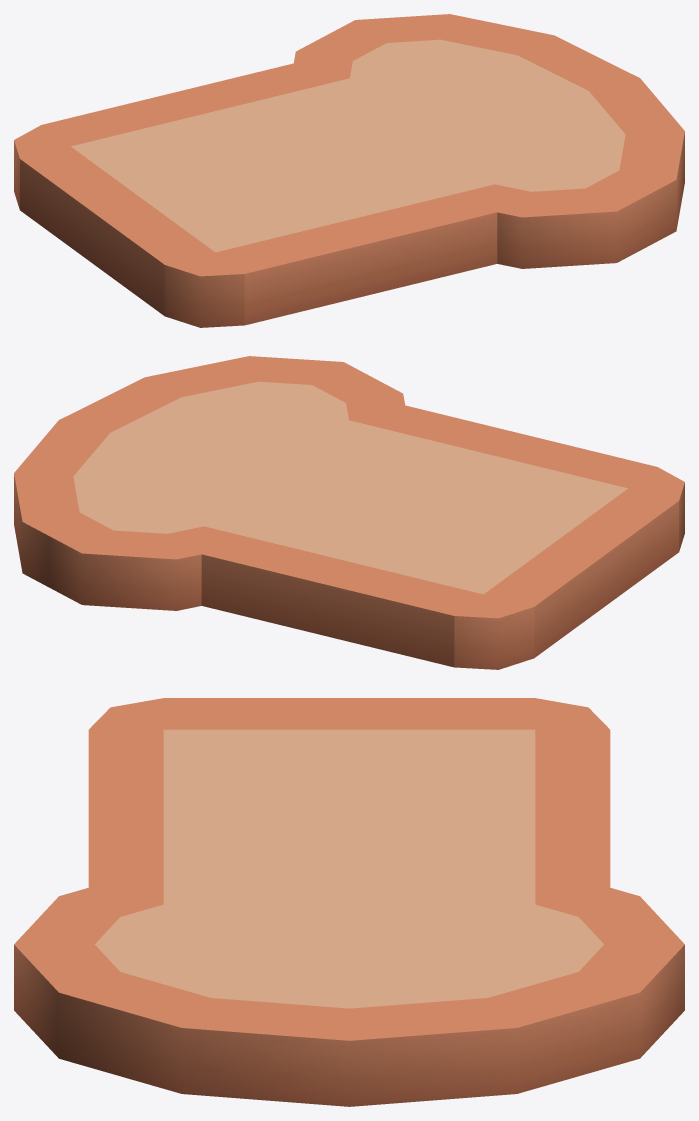
The model's file is bread.04561a5b58.glb.
3 renders of one model, top to bottom at view 1: azimuth 30°, elevation 25°; view 2: azimuth 150°, elevation 25°; view 3: azimuth 270°, elevation 25°, orthographic. The views are drawn at different scales.
Visible parts, largest first — view 1: bread; view 2: bread; view 3: bread.
Part boxes in pixels (bbox=[...]): bread: bbox=[14, 14, 684, 327]; bread: bbox=[14, 356, 684, 669]; bread: bbox=[14, 698, 684, 1106].
Bounding box in the file's own units: 0.4423 × 0.0397 × 0.3659.
1 material, 1 textured.
